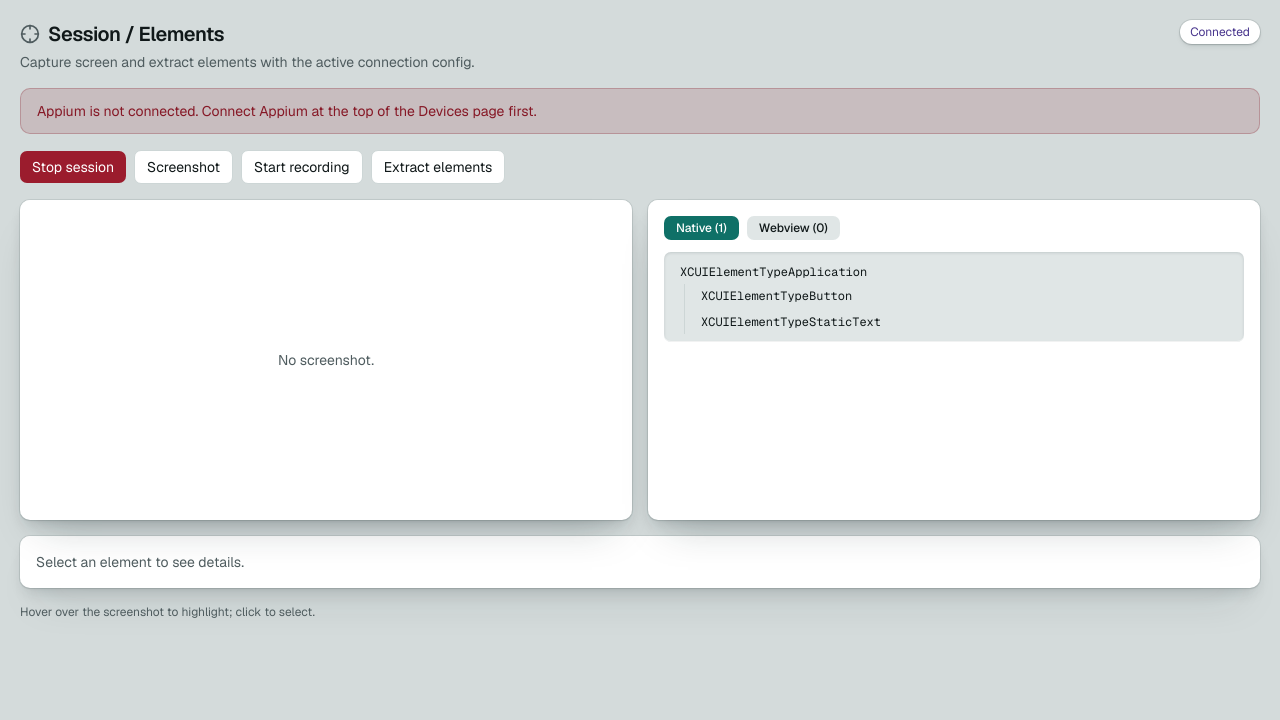
Scenario: MobileInspectorPage — webview empty-state guard › Webview tab body shows an empty state when webviewTree is []
Click the button with test id "inspector-tab-webview" at (793, 228), box [747,216,840,240]
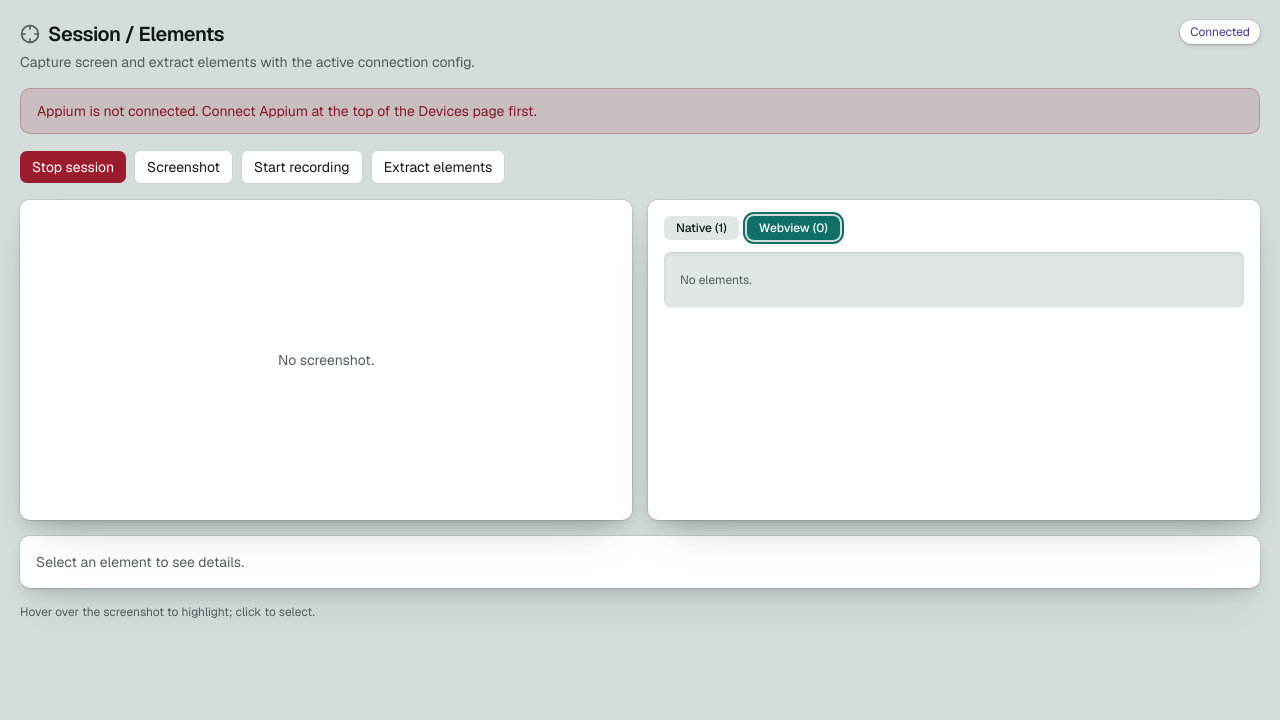
Result: the text "No elements." is shown at [680,272,752,288]
